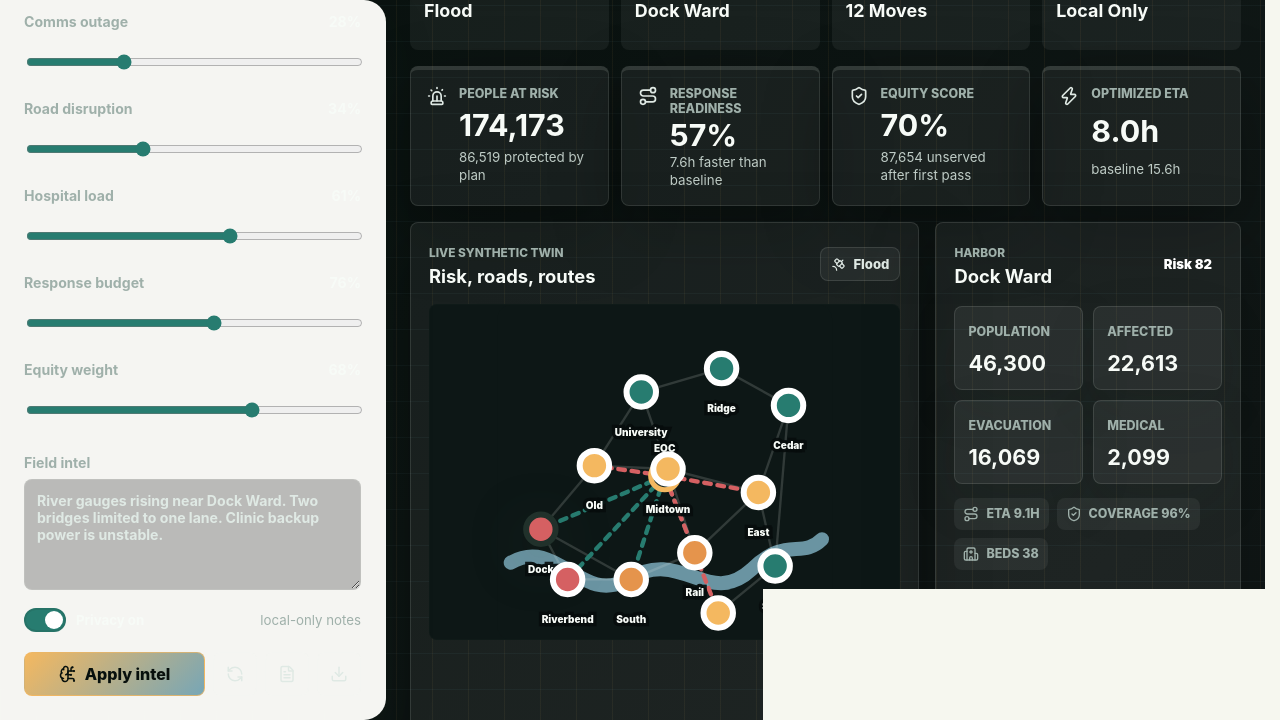
Test: Aegis Atlas app › applies field intel and shifts the hazard mode
The width and height of the screenshot is (1280, 720).
(page scrolled)
Replace the text in the text box labelled "Field intel" with "Wildfire smoke, wind shift, no signal for 9 hours": (192, 535) [24, 479, 361, 590]
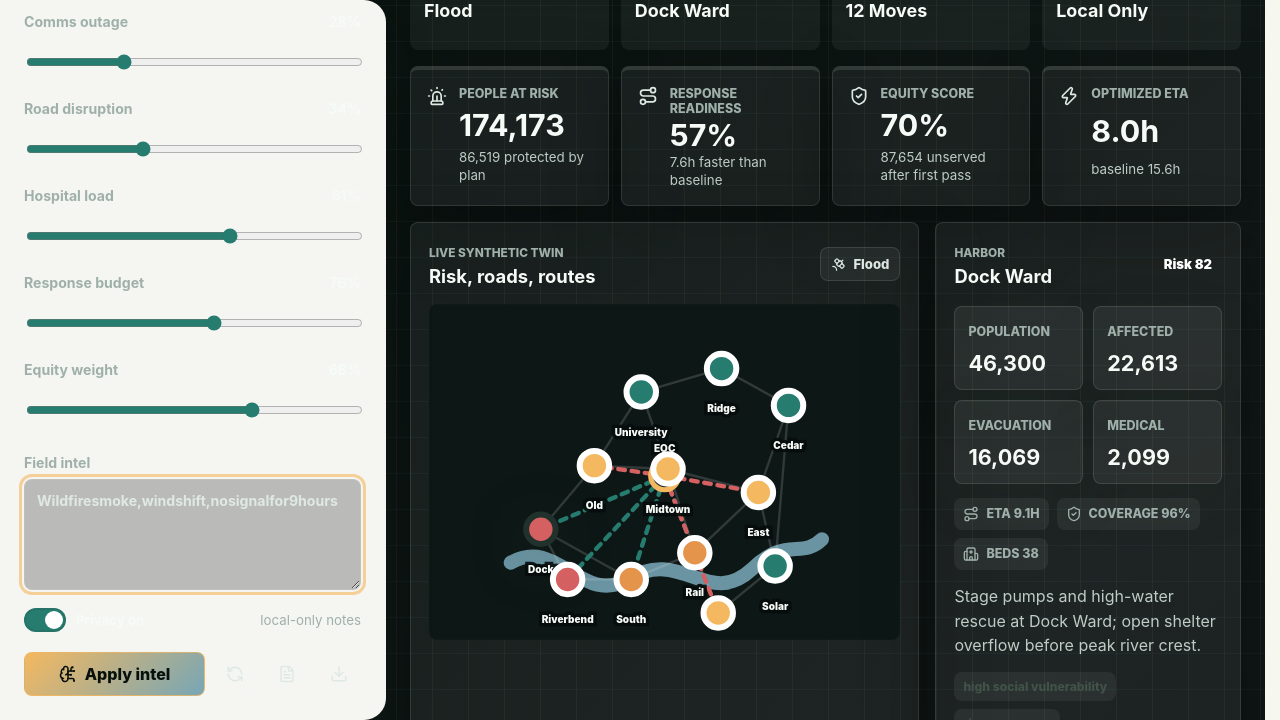
Click the button "Apply intel": (114, 674) [24, 652, 205, 696]
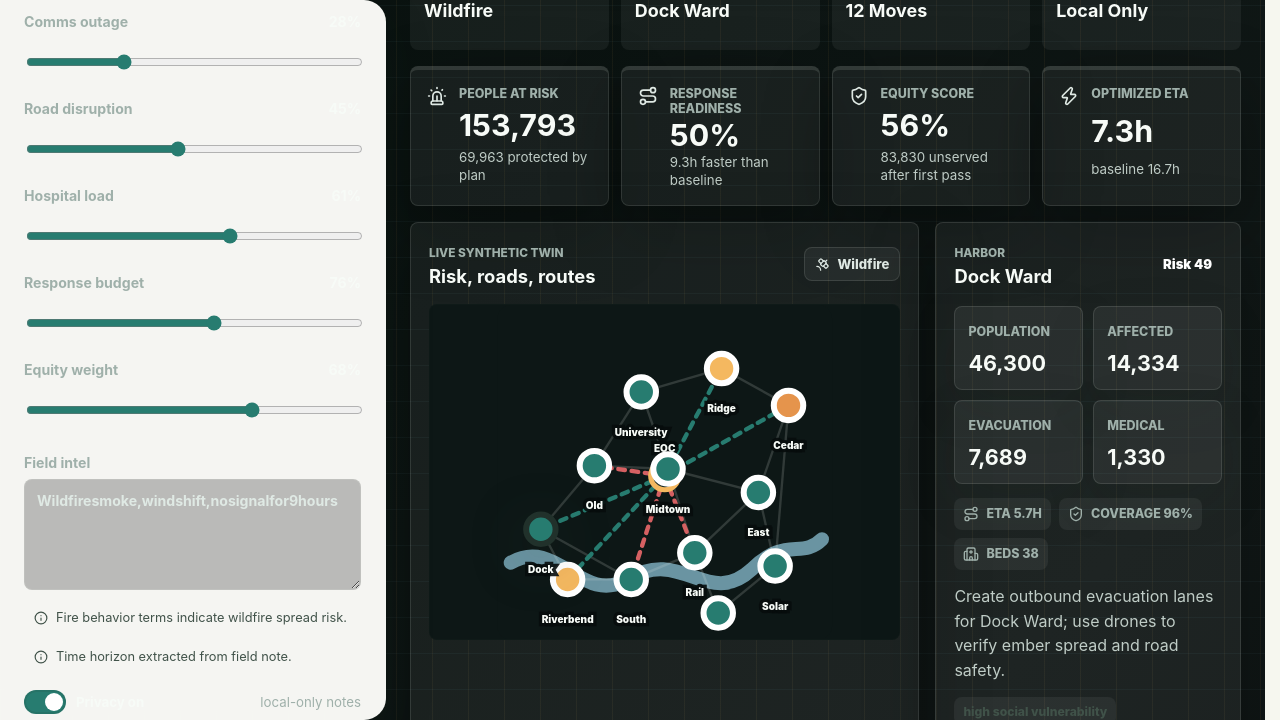
Result: the text box "wildfire" is shown at [24, 479, 361, 590]
Result: the text "Fire behavior terms indicate wildfire spread risk." is shown at [24, 602, 361, 633]
